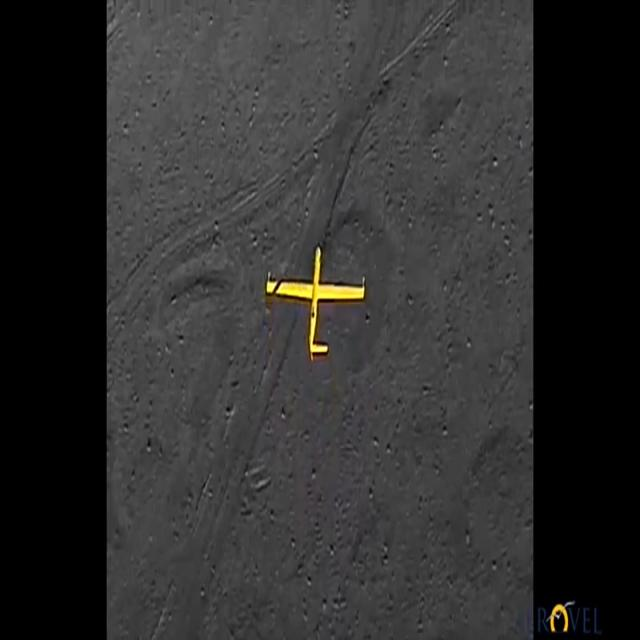iha: (296, 275, 334, 335)
